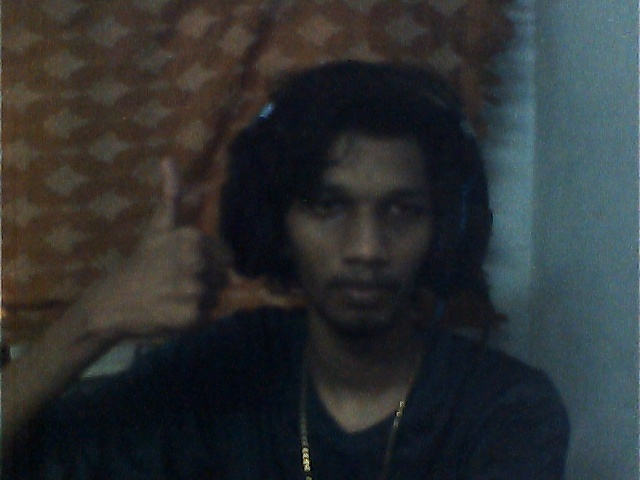ThumbsUp: (81, 158, 231, 340)
